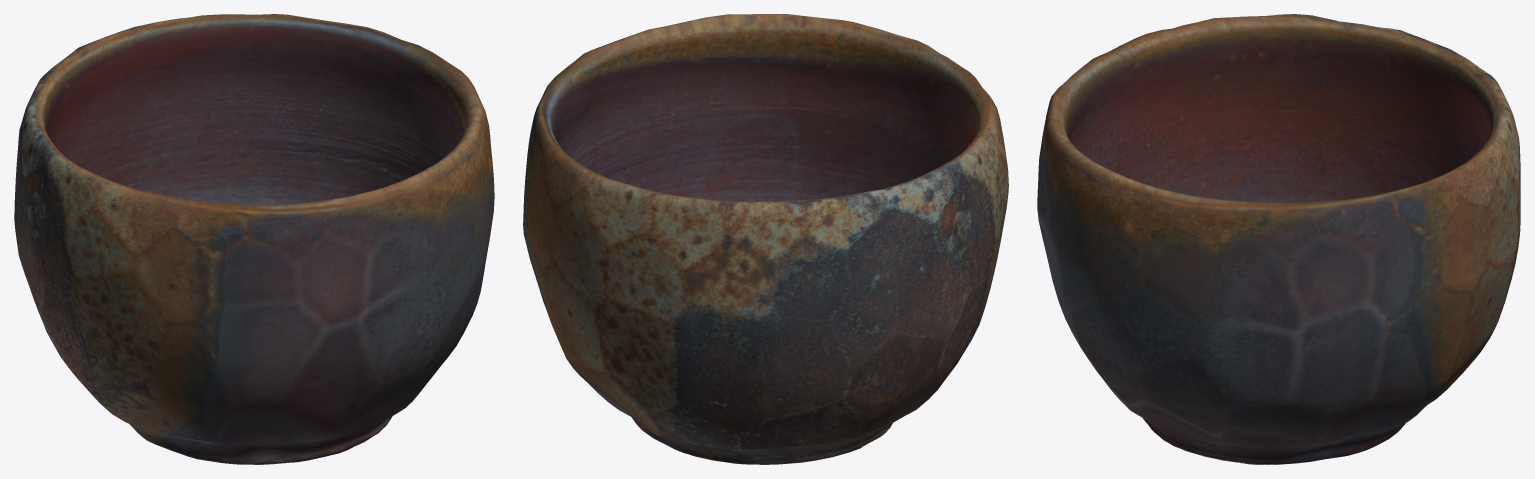
File: obj_a_chinese_tongguan_kiln_teap_7b3bfd.glb
The picture shows the model from 3 angles, left to right: view 1: azimuth 30°, elevation 25°; view 2: azimuth 150°, elevation 25°; view 3: azimuth 270°, elevation 25°; orthographic projection.
Visible parts, largest first — view 1: obj_a_chinese_tongguan_kiln_teap_7b3bfd; view 2: obj_a_chinese_tongguan_kiln_teap_7b3bfd; view 3: obj_a_chinese_tongguan_kiln_teap_7b3bfd.
Part boxes in pixels (x1,y1,x2,y2): obj_a_chinese_tongguan_kiln_teap_7b3bfd: (14, 14, 494, 464); obj_a_chinese_tongguan_kiln_teap_7b3bfd: (523, 14, 1008, 464); obj_a_chinese_tongguan_kiln_teap_7b3bfd: (1037, 14, 1520, 464).
Bounding box in the file's own units: 0.1991 × 0.1378 × 0.2.
Materials: 1 (1 with a texture image).
